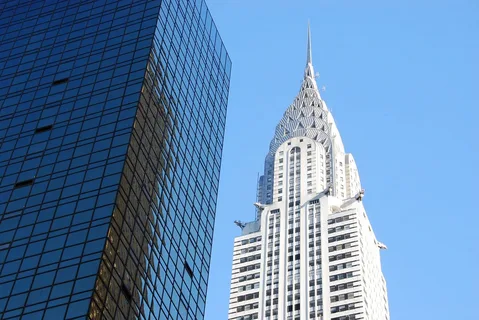high_rise_building: (82, 1, 221, 318), (237, 58, 389, 317)
